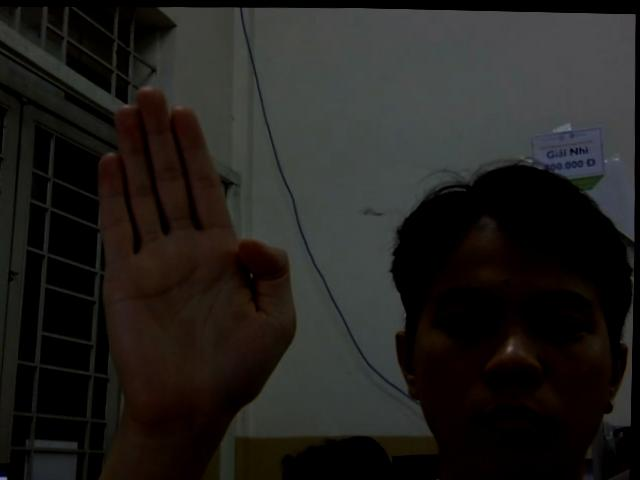B: (58, 72, 307, 418)
